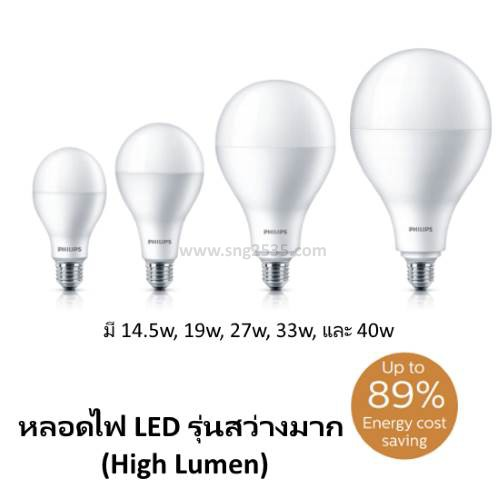Light_bulb: (345, 47, 500, 303), (206, 69, 346, 303), (112, 119, 203, 290), (29, 143, 115, 291)
